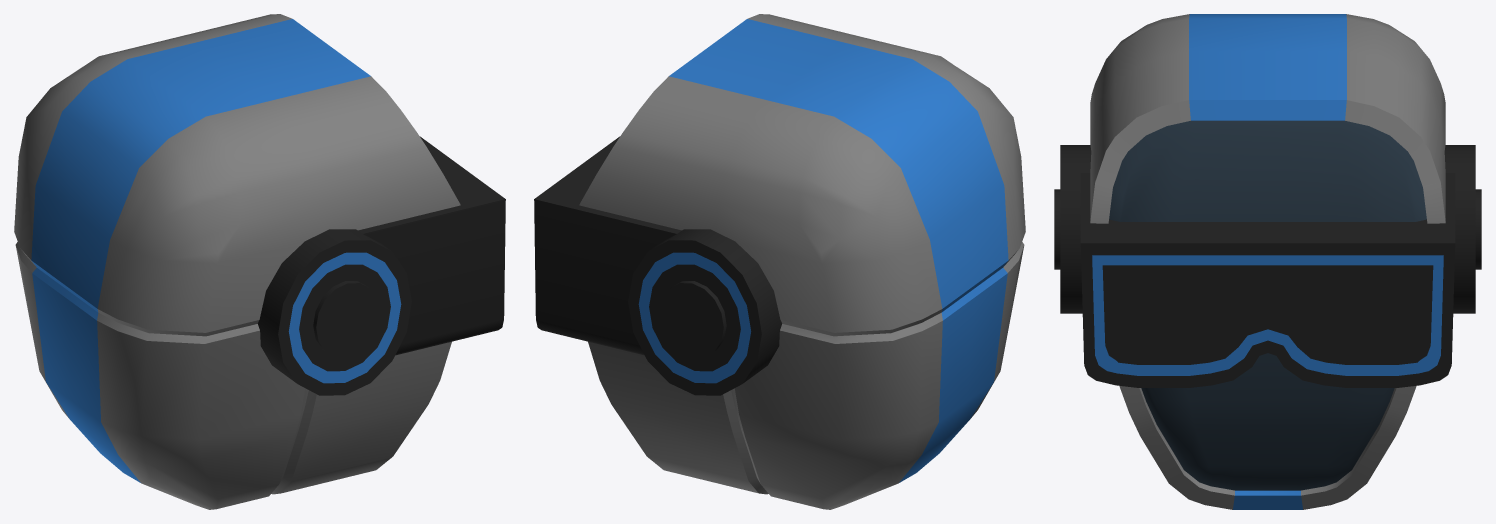
File: head.fbx
The picture shows the model from 3 angles, left to right: view 1: azimuth 30°, elevation 25°; view 2: azimuth 150°, elevation 25°; view 3: azimuth 270°, elevation 25°; orthographic projection.
Parts seen in each view (by area): view 1: Cube.001; view 2: Cube.001; view 3: Cube.001.
Boxes of the visible parts, box(x1,y1,x2,y2) form: Cube.001: box(14, 14, 505, 509); Cube.001: box(534, 14, 1025, 509); Cube.001: box(1054, 14, 1481, 509).
Size of the model in its own units: 60.51 by 67.71 by 63.98.
